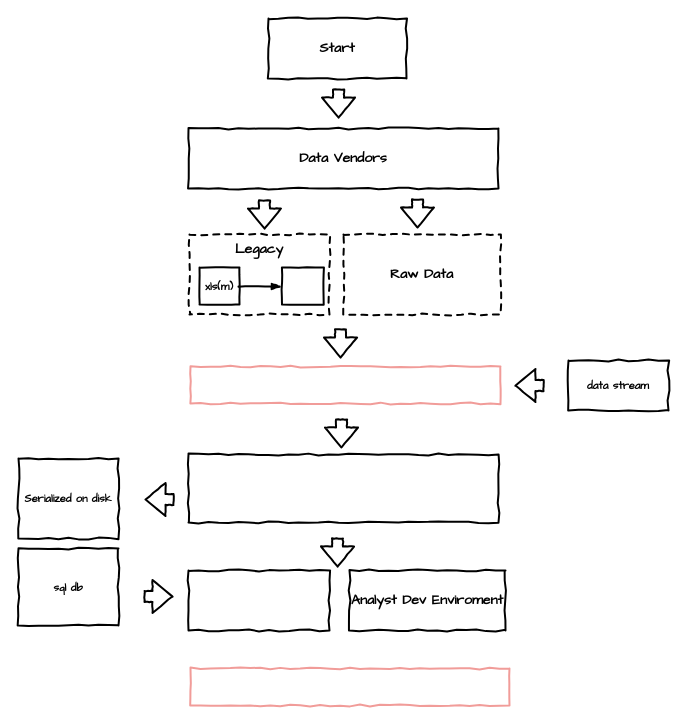
This 686x723 diagram has some shape labels left out. Each missing label, with the centre of its shape:
accdb: [302,285]
dataframe(s): [345,384]
interactive data tools: [349,686]
Standardize Reshape Factorize: [343,488]
Web Server: [258,600]
